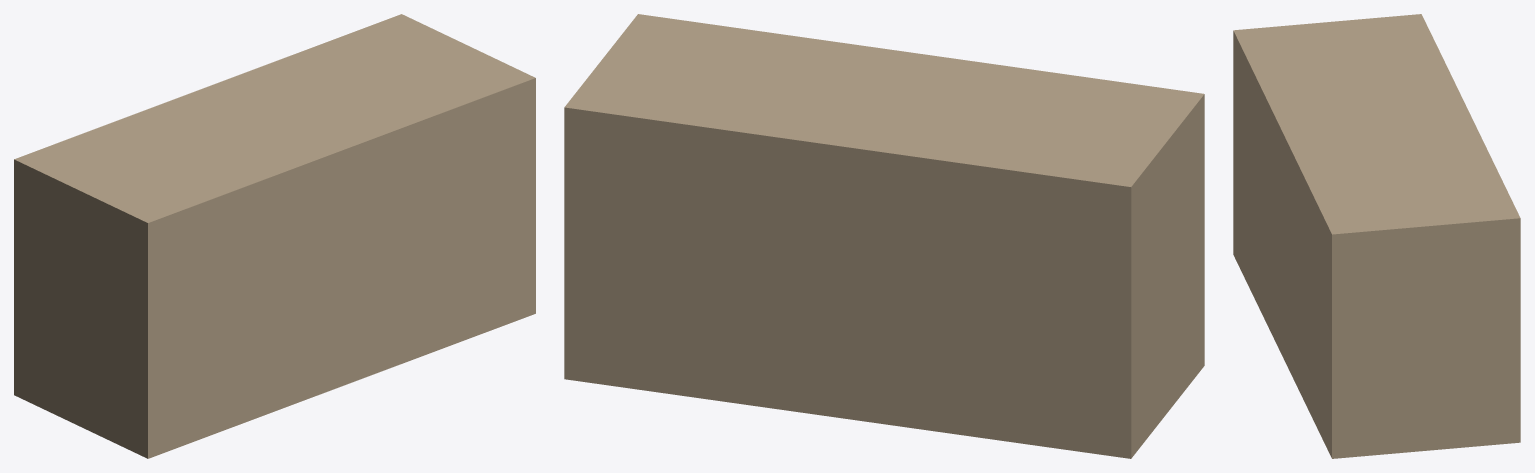
Rendered from bld_106456160.dae.
3 views of the same model, side by side, from view 1: azimuth 30°, elevation 25°; view 2: azimuth 150°, elevation 25°; view 3: azimuth 270°, elevation 25° (orthographic). The views are drawn at different scales.
Parts seen in each view (by area): view 1: bld_106456160; view 2: bld_106456160; view 3: bld_106456160.
Boxes of the visible parts, bbox=[...] form: bld_106456160: bbox=[14, 14, 535, 458]; bld_106456160: bbox=[564, 14, 1204, 458]; bld_106456160: bbox=[1233, 14, 1520, 458].
Bounding box in the file's own units: 16.86 × 9.28 × 8.
